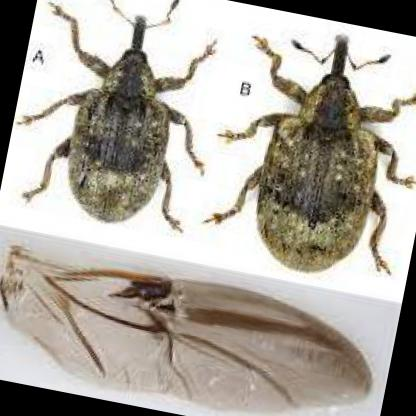ash weevil: (209, 34, 416, 273), (18, 13, 208, 228)
